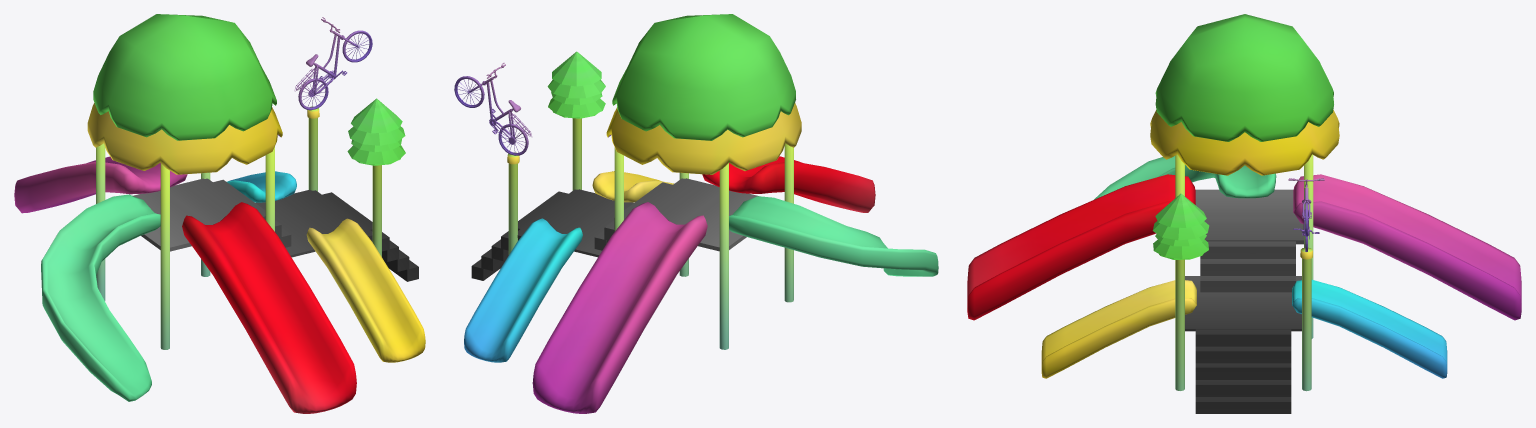
Rendered from Park_1.fbx.
The picture shows the model from 3 angles, left to right: view 1: azimuth 30°, elevation 25°; view 2: azimuth 150°, elevation 25°; view 3: azimuth 270°, elevation 25°; orthographic projection.
Parts seen in each view (by area): view 1: Park_1; view 2: Park_1; view 3: Park_1.
Part boxes in pixels (x1,y1,x2,y2): Park_1: [14, 14, 425, 413]; Park_1: [454, 14, 938, 413]; Park_1: [967, 14, 1521, 413].
Size of the model in its own units: 907 by 662 by 1120.
1 material, 1 textured.
